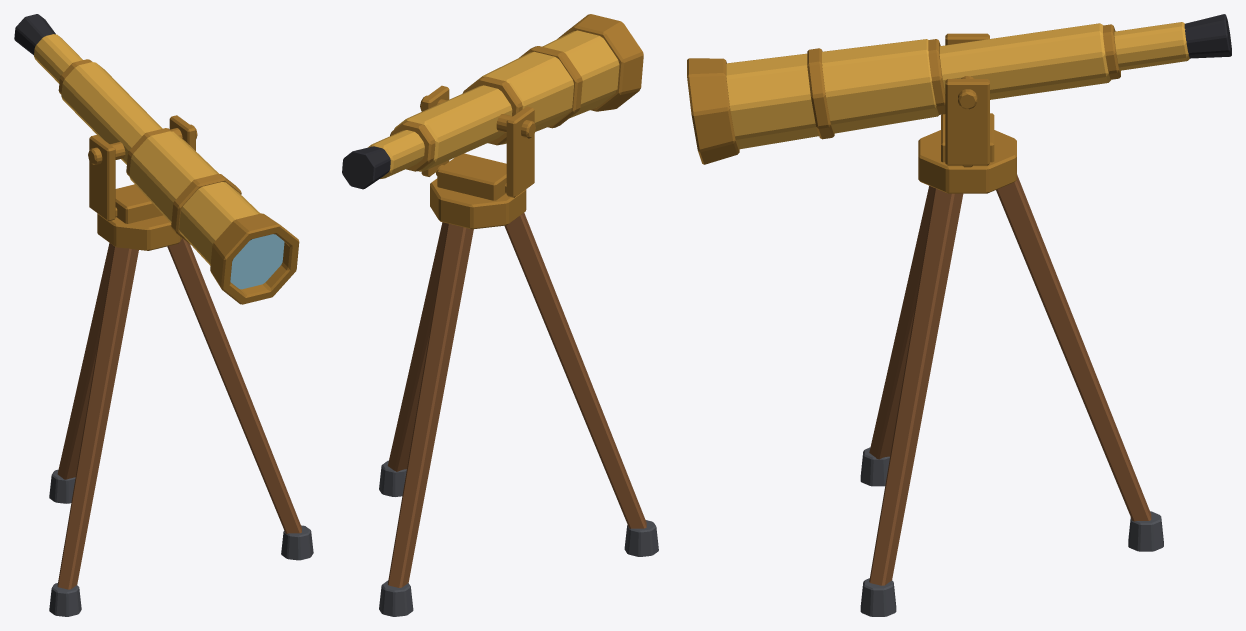
File: w2_telescope.fbx
3 views of the same model, side by side, from view 1: azimuth 30°, elevation 25°; view 2: azimuth 150°, elevation 25°; view 3: azimuth 270°, elevation 25° (orthographic). The views are drawn at different scales.
Parts seen in each view (by area): view 1: Telescope.Legs, Telescope.Tube, Telescope.Mount, Telescope.Bands, Telescope.Feet, Telescope.Glass, Telescope.Eyecup; view 2: Telescope.Legs, Telescope.Tube, Telescope.Mount, Telescope.Bands, Telescope.Feet, Telescope.Eyecup; view 3: Telescope.Tube, Telescope.Legs, Telescope.Mount, Telescope.Bands, Telescope.Feet, Telescope.Eyecup.
Boxes of the visible parts, bbox=[...] form: Telescope.Legs: bbox=[57, 238, 301, 589]; Telescope.Tube: bbox=[34, 34, 260, 265]; Telescope.Mount: bbox=[88, 115, 197, 250]; Telescope.Bands: bbox=[58, 59, 299, 304]; Telescope.Feet: bbox=[49, 469, 313, 616]; Telescope.Glass: bbox=[230, 234, 284, 289]; Telescope.Eyecup: bbox=[14, 14, 55, 55]; Telescope.Legs: bbox=[387, 213, 646, 587]; Telescope.Tube: bbox=[368, 30, 619, 178]; Telescope.Mount: bbox=[420, 85, 535, 229]; Telescope.Bands: bbox=[390, 14, 643, 171]; Telescope.Feet: bbox=[379, 460, 658, 616]; Telescope.Eyecup: bbox=[342, 146, 390, 189]; Telescope.Tube: bbox=[726, 22, 1189, 149]; Telescope.Legs: bbox=[869, 174, 1151, 585]; Telescope.Mount: bbox=[918, 33, 1016, 193]; Telescope.Bands: bbox=[687, 24, 1120, 164]; Telescope.Feet: bbox=[860, 447, 1163, 616]; Telescope.Eyecup: bbox=[1184, 14, 1231, 58].
Bounding box in the file's own units: 2.32 × 3.91 × 3.67.
